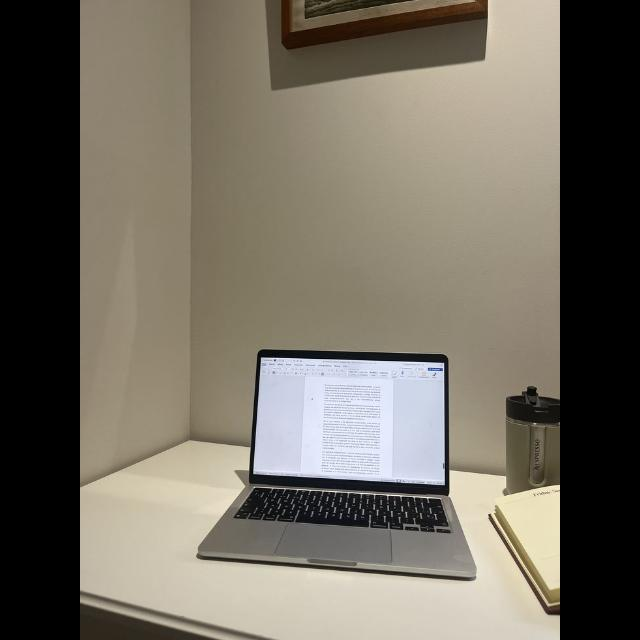laptop: (199, 349, 476, 579)
